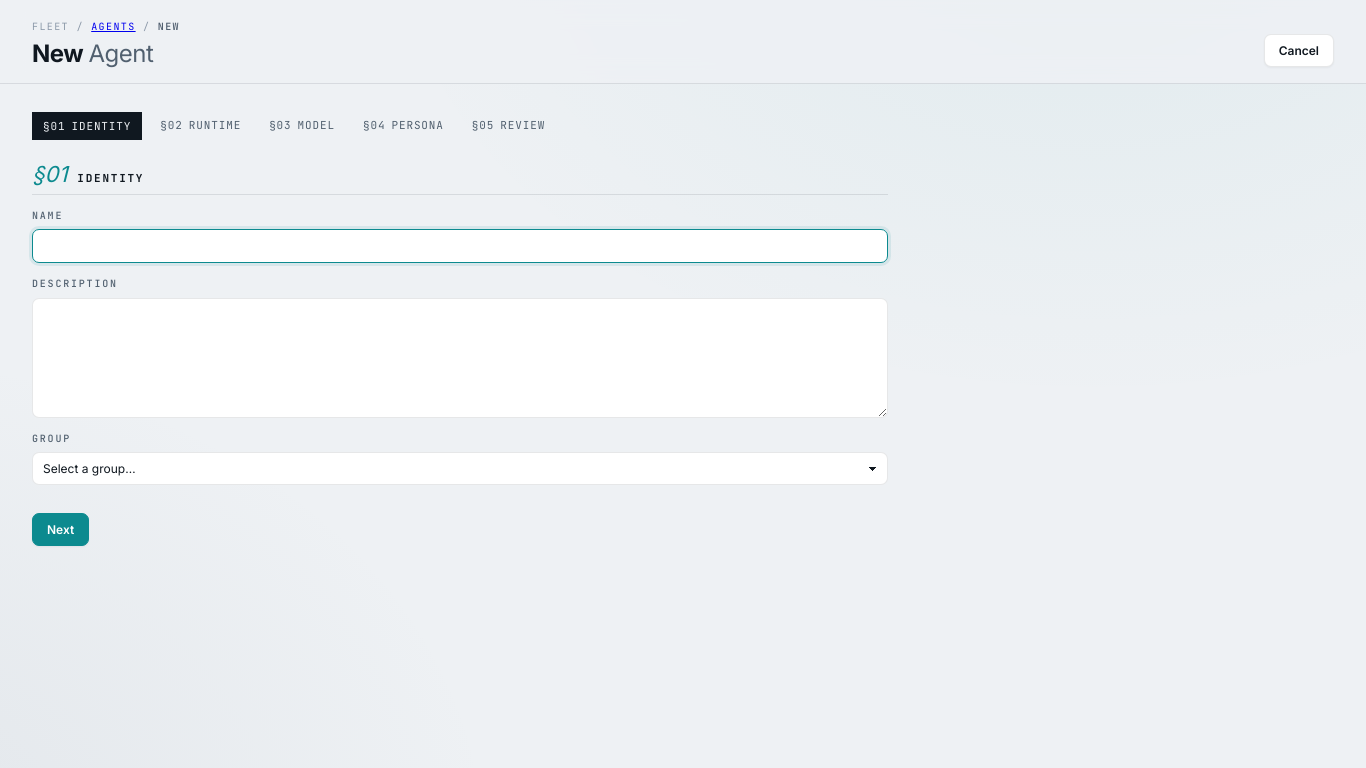
Test case: AgentWizard › blocks Next until the required identity fields are filled
Click the button "Next" at [61, 530], box [32,513,89,546]
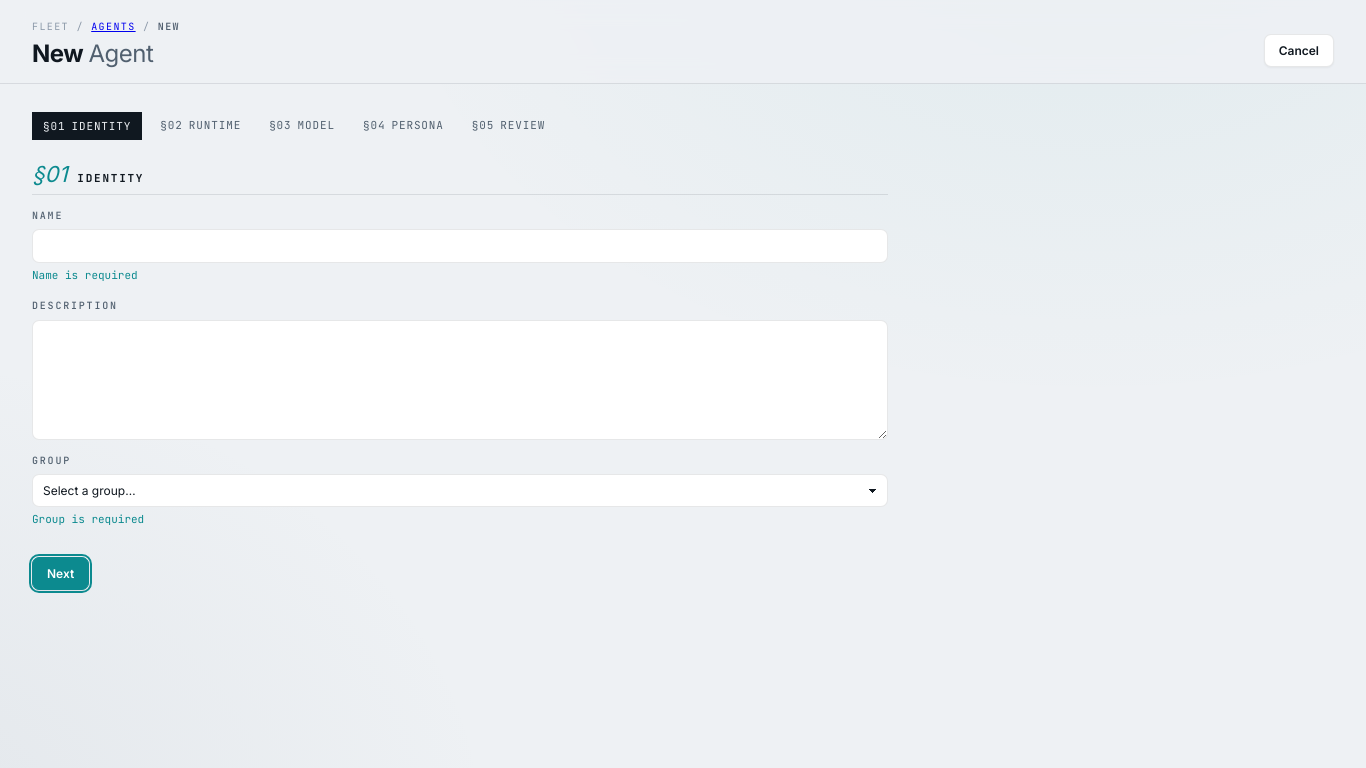
Expected: the field labelled "runtime image" is not shown
Expected: the text "Name is required" is shown, [32,269,138,283]
Expected: the text "Group is required" is shown, [32,513,144,527]
Type "my-agent" into the field labelled "Name" at [460, 246], box [32,229,888,263]
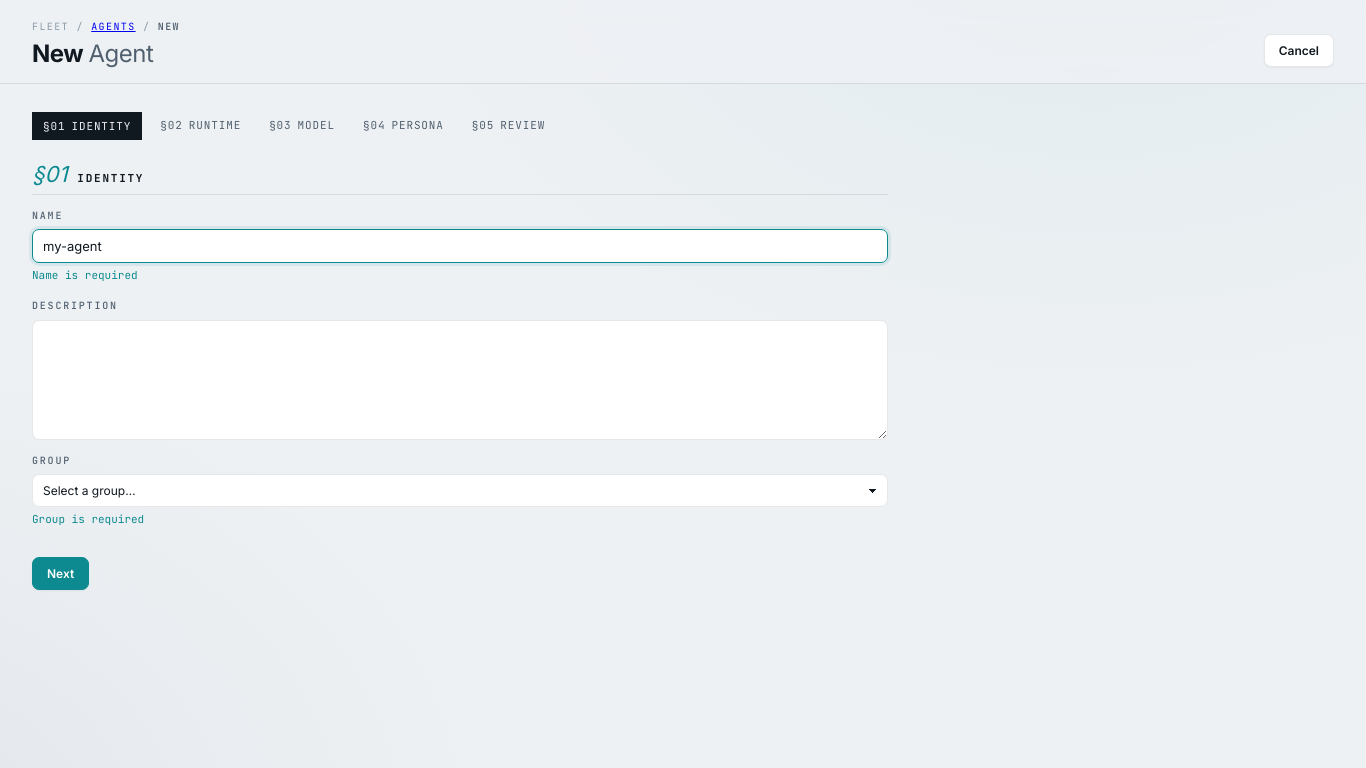
Select "Team A" in the dropdown labelled "Group" at [460, 491], box [32,474,888,507]
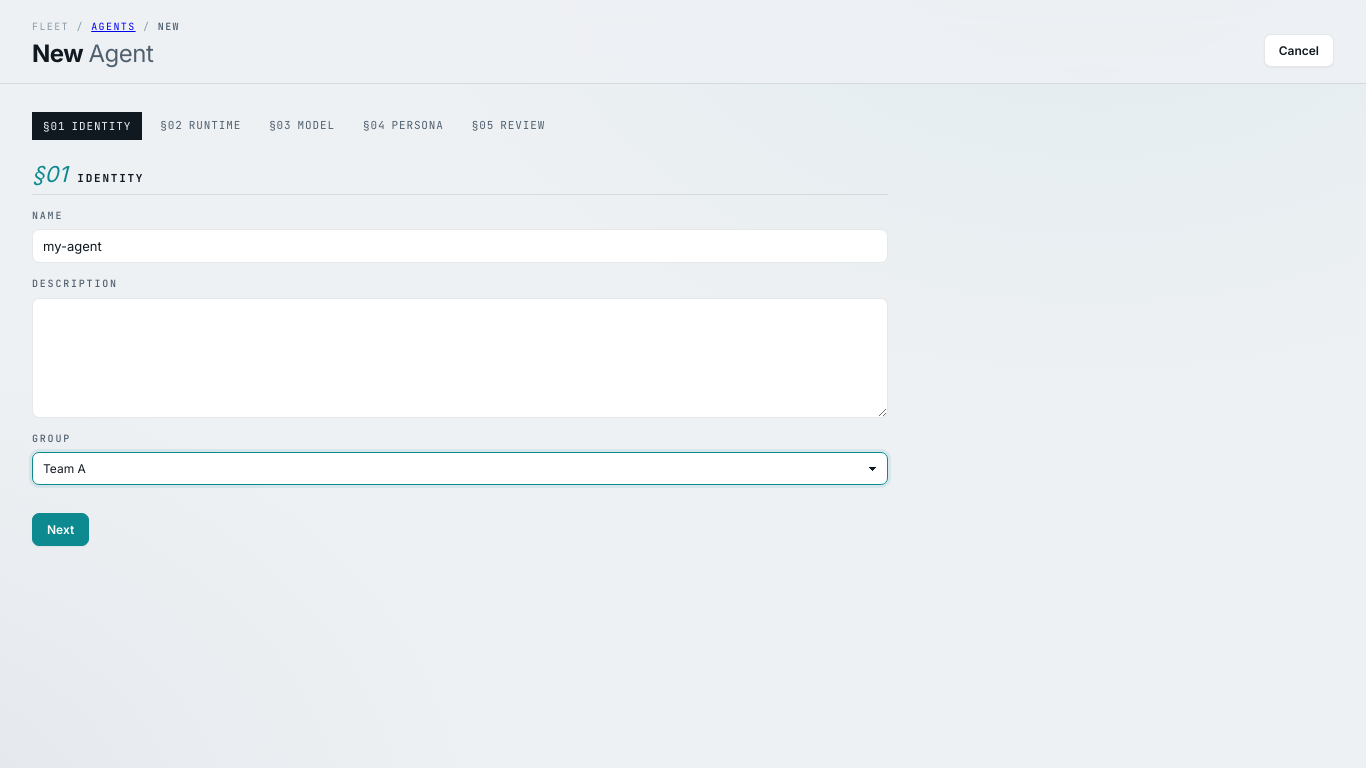
Expected: the text "Group is required" is gone
Click the button "Next" at [61, 530], box [32,513,89,546]
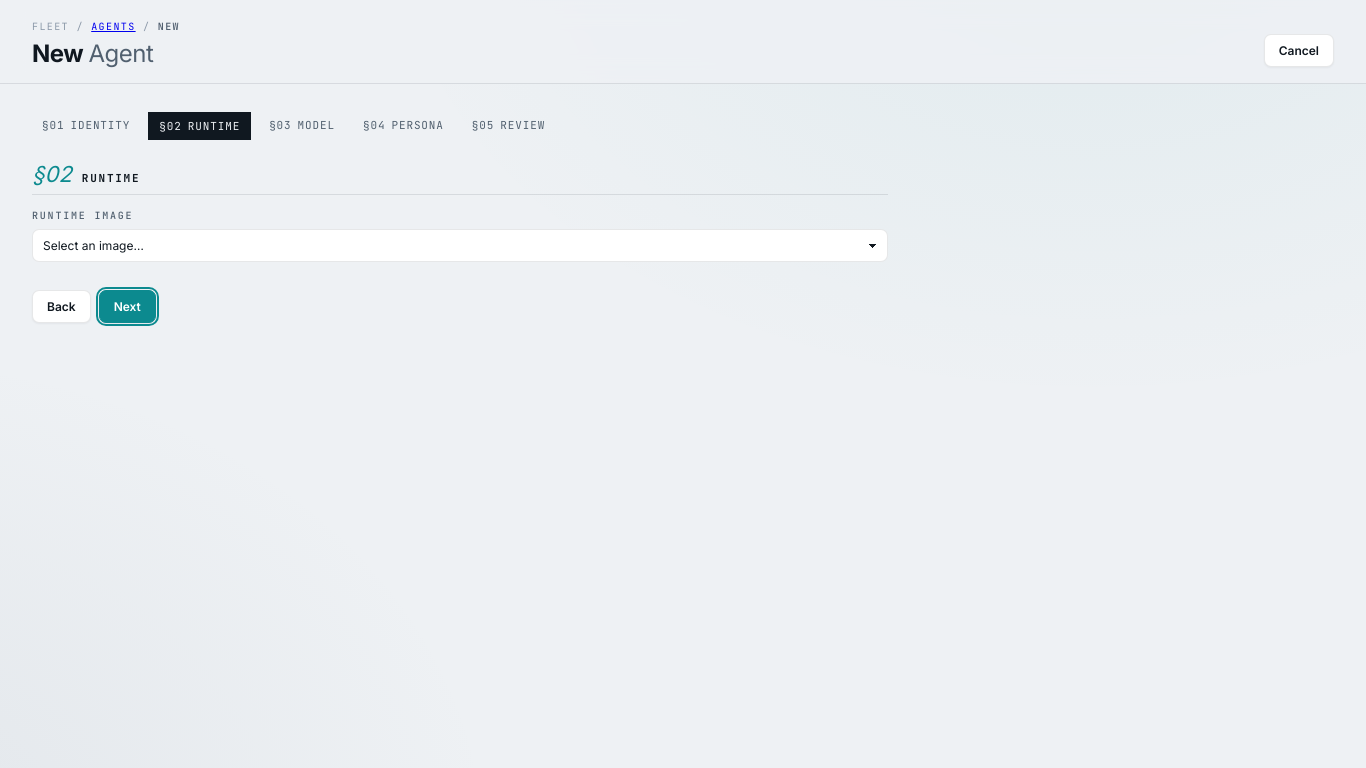
Expected: the dropdown labelled "Runtime image" is shown, [32,229,888,262]
